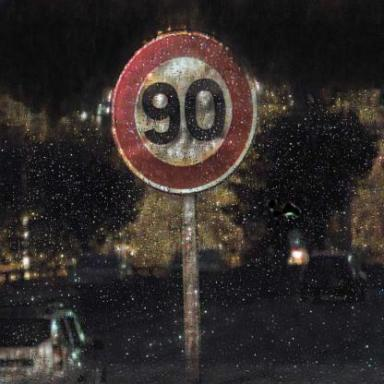Speed_limit_90: (114, 35, 249, 190)
